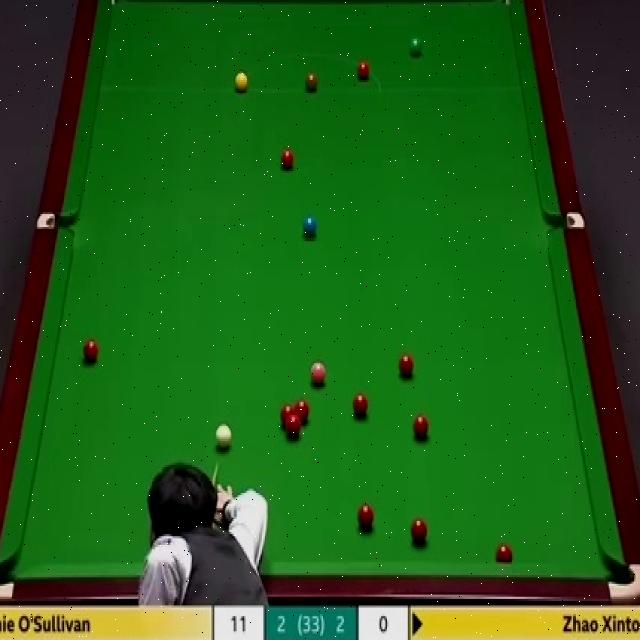blue-ball: (302, 214, 317, 239)
brown-ball: (303, 70, 318, 94)
green-ball: (407, 37, 423, 58)
pink-ball: (310, 358, 327, 387)
red-ball: (81, 337, 100, 366), (397, 352, 415, 382), (410, 518, 428, 546), (357, 502, 374, 531), (352, 392, 368, 420), (412, 412, 428, 439), (279, 146, 296, 171), (295, 400, 310, 426), (496, 542, 513, 564), (286, 417, 300, 439), (280, 404, 294, 426), (356, 60, 370, 80)
white-ball: (214, 421, 234, 456)
yellow-ball: (234, 70, 248, 92)
